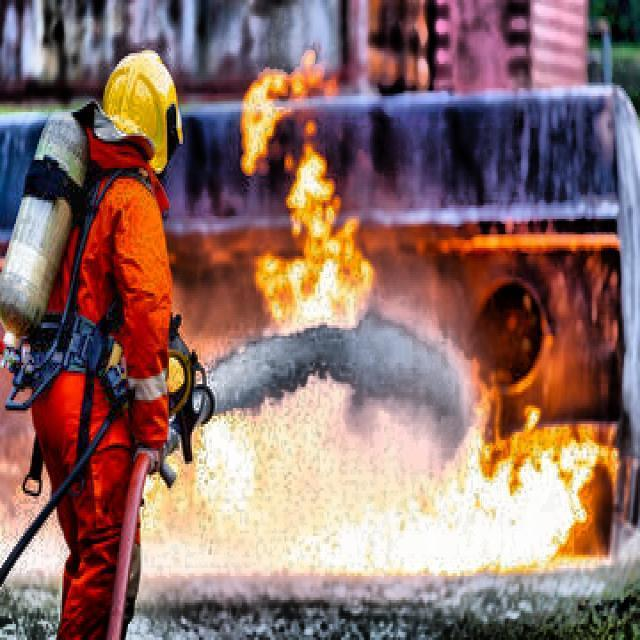Fire: (238, 66, 368, 332), (446, 436, 602, 571)
